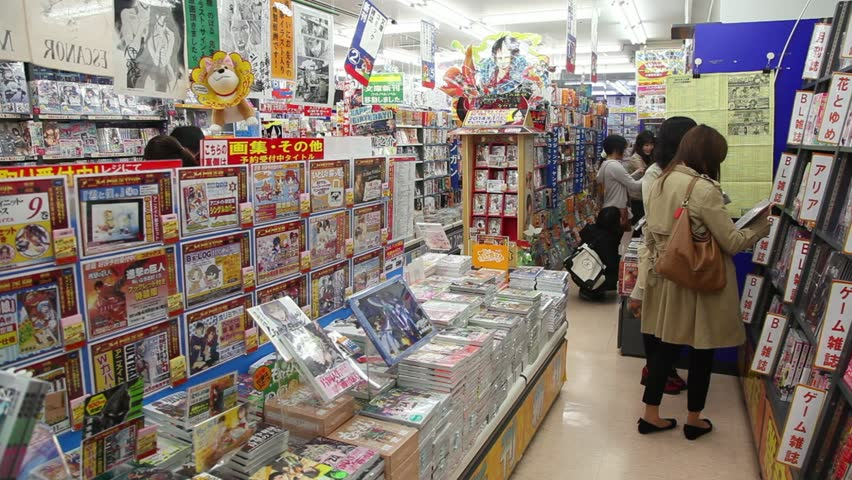Not_Face: (664, 114, 699, 165), (685, 130, 728, 171), (172, 126, 208, 159), (147, 136, 184, 160), (605, 135, 627, 162), (639, 135, 653, 156)
